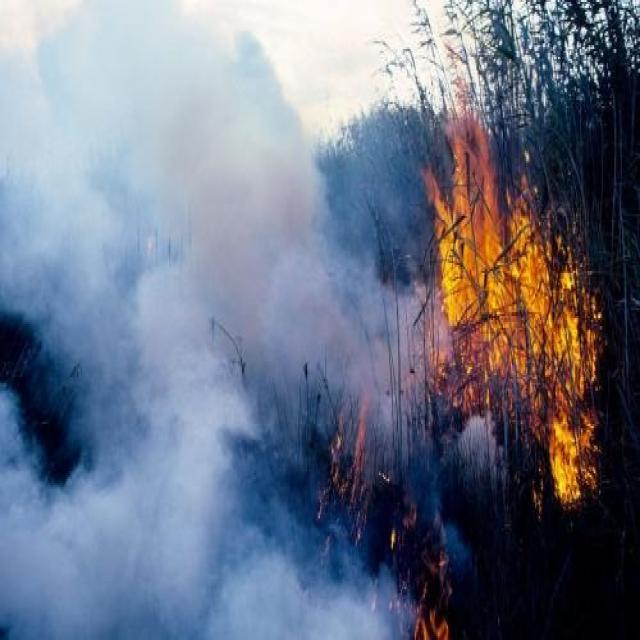Fire: (420, 60, 603, 512), (328, 386, 368, 496), (412, 602, 448, 640)
Smoke: (2, 2, 510, 640)
